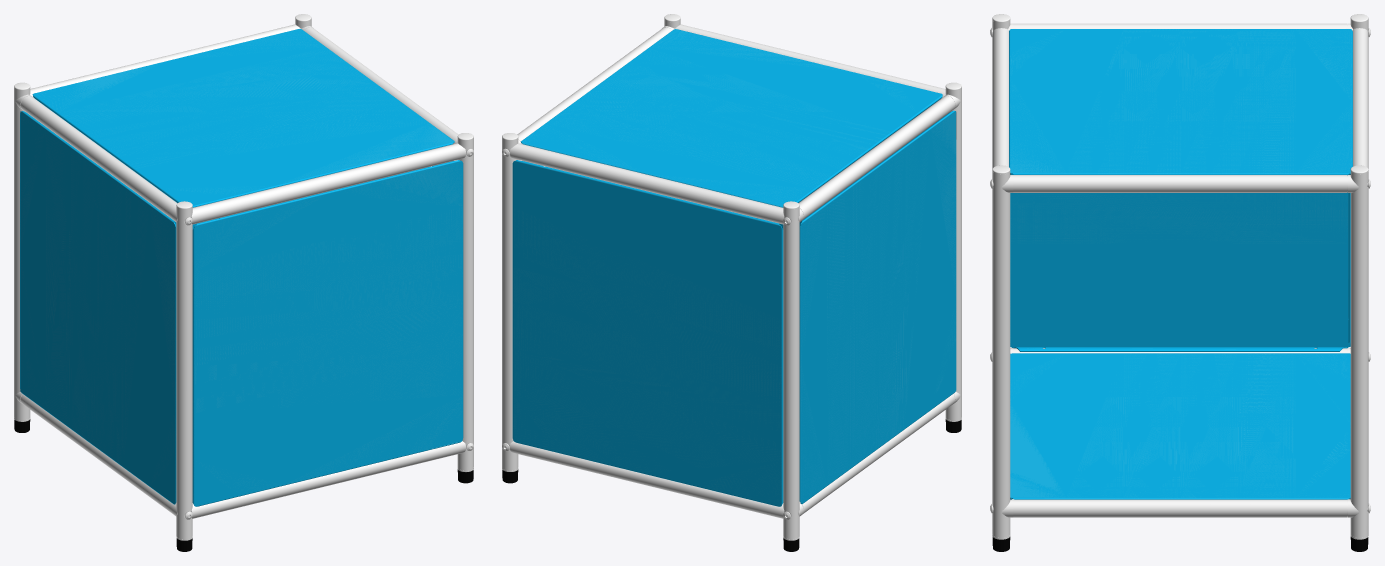
Rendered from 40x40x40-2-3-blue.glb.
3 renders of one model, left to right at view 1: azimuth 30°, elevation 25°; view 2: azimuth 150°, elevation 25°; view 3: azimuth 270°, elevation 25°, orthographic. The views are drawn at different scales.
Parts seen in each view (by area): view 1: 直角鐵板-40x40-2 - 零件, 直角鐵板-40x40-4 - 零件, 直角鐵板-40x40-5 - 零件, 鐵管-1層-40-正常腳-32mm-5 - 零件, 消水孔鐵管-40深-2 - 零件, 鐵管-1層-40-正常腳-32mm-4 - 零件, 消水孔鐵管-40深-1 - 零件, 反-鐵管-40-354..4-18 - 零件, 鏡射鐵管-1層-40-正常腳-32mm-2 - 零件, 反-鐵管-40-354..4-15 - 零件, 鏡射消水孔鐵管-40深-2 - 零件, 反-鐵管-40-354..4-17 - 零件; view 2: object 42, 直角鐵板-40x40-4 - 零件, 直角鐵板-40x40-5 - 零件, 鏡射鐵管-1層-40-正常腳-32mm-2 - 零件, 鏡射消水孔鐵管-40深-2 - 零件, 鏡射鐵管-1層-40-正常腳-32mm-1 - 零件, 鏡射消水孔鐵管-40深-1 - 零件, 反-鐵管-40-354..4-18 - 零件, 鐵管-1層-40-正常腳-32mm-5 - 零件, 消水孔鐵管-40深-2 - 零件, 反-鐵管-40-354..4-15 - 零件, 反-鐵管-40-354..4-17 - 零件; view 3: 直角鐵板-40x40-4 - 零件, 直角鐵板-40x40-5 - 零件, 直角鐵板-40x40-3 - 零件, 鐵管-1層-40-正常腳-32mm-4 - 零件, 鏡射鐵管-1層-40-正常腳-32mm-1 - 零件, 反-鐵管-40-354..4-1 - 零件, 反-鐵管-40-354..4-17 - 零件, 消水孔鐵管-40深-2 - 零件, 鏡射消水孔鐵管-40深-2 - 零件, 反-鐵管-40-354..4-18 - 零件, 反-鐵管-40-354..4-15 - 零件.
Part boxes in pixels (left/top/right/bottom): 直角鐵板-40x40-2 - 零件: left=192, top=160, right=463, bottom=506; 直角鐵板-40x40-4 - 零件: left=20, top=111, right=176, bottom=504; 直角鐵板-40x40-5 - 零件: left=32, top=29, right=454, bottom=207; 鐵管-1層-40-正常腳-32mm-5 - 零件: left=176, top=206, right=192, bottom=539; 消水孔鐵管-40深-2 - 零件: left=191, top=143, right=465, bottom=224; 鐵管-1層-40-正常腳-32mm-4 - 零件: left=457, top=138, right=473, bottom=470; 消水孔鐵管-40深-1 - 零件: left=191, top=441, right=465, bottom=518; 反-鐵管-40-354..4-18 - 零件: left=20, top=96, right=177, bottom=219; 鏡射鐵管-1層-40-正常腳-32mm-2 - 零件: left=14, top=87, right=30, bottom=420; 反-鐵管-40-354..4-15 - 零件: left=21, top=394, right=173, bottom=514; 鏡射消水孔鐵管-40深-2 - 零件: left=30, top=24, right=300, bottom=97; 反-鐵管-40-354..4-17 - 零件: left=304, top=27, right=458, bottom=144; object 42: left=512, top=160, right=783, bottom=506; 直角鐵板-40x40-4 - 零件: left=799, top=110, right=956, bottom=504; 直角鐵板-40x40-5 - 零件: left=521, top=29, right=942, bottom=207; 鏡射鐵管-1層-40-正常腳-32mm-2 - 零件: left=783, top=207, right=799, bottom=539; 鏡射消水孔鐵管-40深-2 - 零件: left=510, top=143, right=784, bottom=224; 鏡射鐵管-1層-40-正常腳-32mm-1 - 零件: left=502, top=138, right=518, bottom=470; 鏡射消水孔鐵管-40深-1 - 零件: left=510, top=441, right=784, bottom=518; 反-鐵管-40-354..4-18 - 零件: left=798, top=96, right=955, bottom=219; 鐵管-1層-40-正常腳-32mm-5 - 零件: left=945, top=88, right=961, bottom=420; 消水孔鐵管-40深-2 - 零件: left=675, top=24, right=945, bottom=98; 反-鐵管-40-354..4-15 - 零件: left=799, top=394, right=955, bottom=514; 反-鐵管-40-354..4-17 - 零件: left=517, top=27, right=671, bottom=141; 直角鐵板-40x40-4 - 零件: left=1010, top=174, right=1350, bottom=351; 直角鐵板-40x40-5 - 零件: left=1009, top=29, right=1352, bottom=174; 直角鐵板-40x40-3 - 零件: left=1010, top=353, right=1350, bottom=499; 鐵管-1層-40-正常腳-32mm-4 - 零件: left=992, top=171, right=1010, bottom=537; 鏡射鐵管-1層-40-正常腳-32mm-1 - 零件: left=1350, top=171, right=1368, bottom=537; 反-鐵管-40-354..4-1 - 零件: left=1013, top=499, right=1347, bottom=517; 反-鐵管-40-354..4-17 - 零件: left=1013, top=175, right=1347, bottom=192; 消水孔鐵管-40深-2 - 零件: left=992, top=28, right=1008, bottom=168; 鏡射消水孔鐵管-40深-2 - 零件: left=1352, top=28, right=1368, bottom=168; 反-鐵管-40-354..4-18 - 零件: left=1013, top=23, right=1347, bottom=28; 反-鐵管-40-354..4-15 - 零件: left=1013, top=348, right=1347, bottom=353.
Size of the model in its own units: 0.3992 by 0.4454 by 0.4036.
